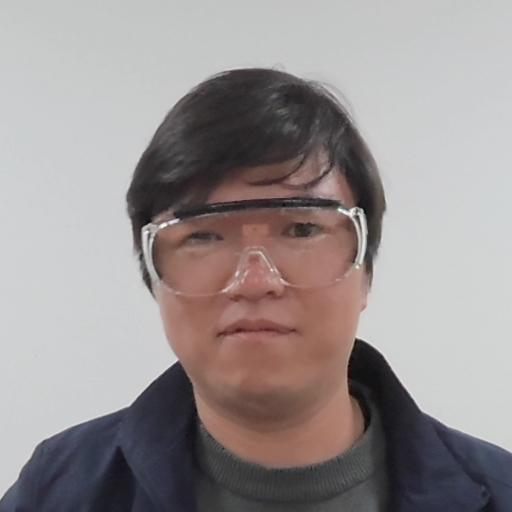glasses: (100, 56, 399, 414)
